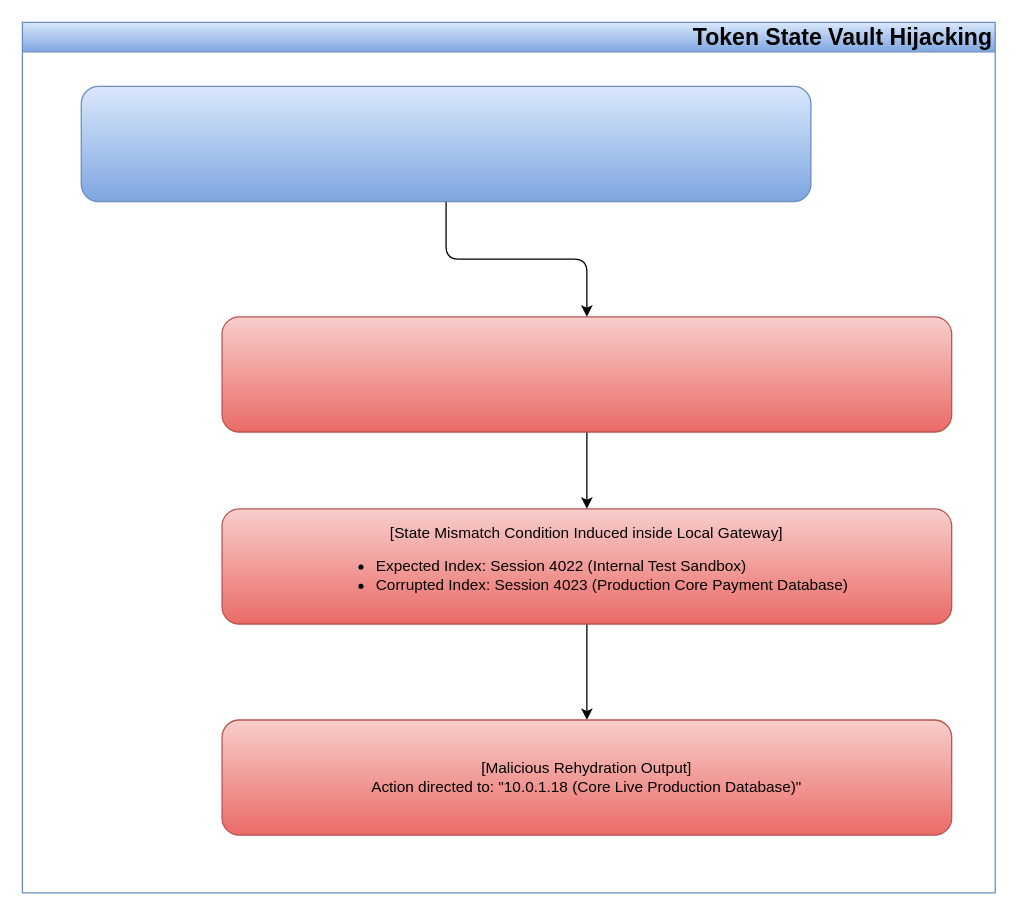
Image size: 1018x915. Some labels were removed from this diagram. Each missing label, with the box of its shape:
Attacker Network Injection: Manipulates TCP sequence / transaction ID: (221, 316, 952, 432)
Incoming Cloud Response: "Deploy Patch to [IP_ADDRESS_1]": (80, 85, 811, 202)
